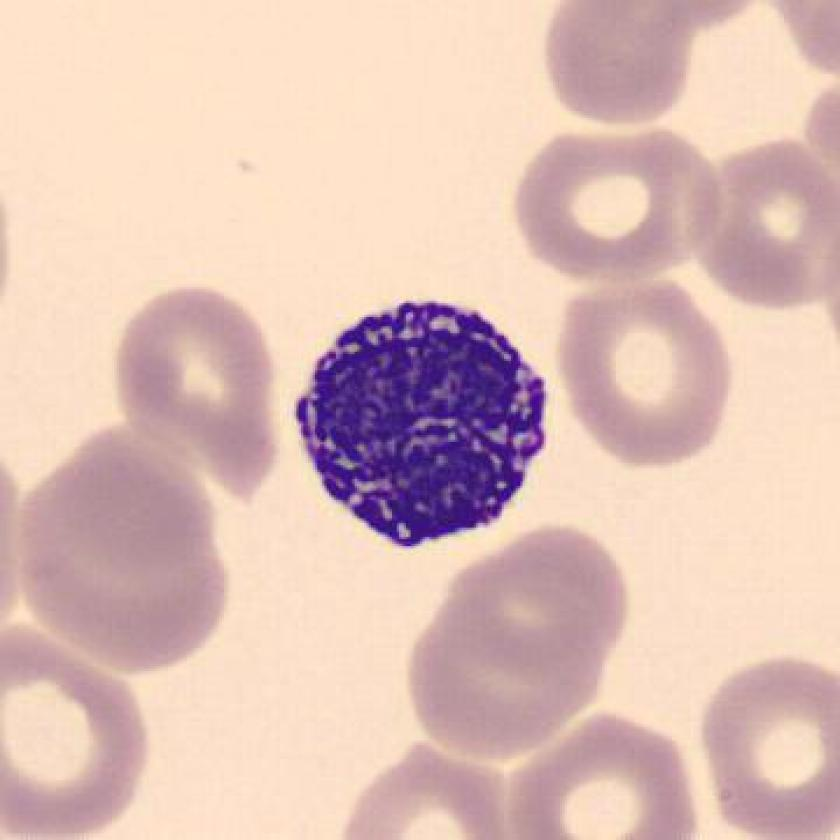basophil: (288, 279, 563, 559)
